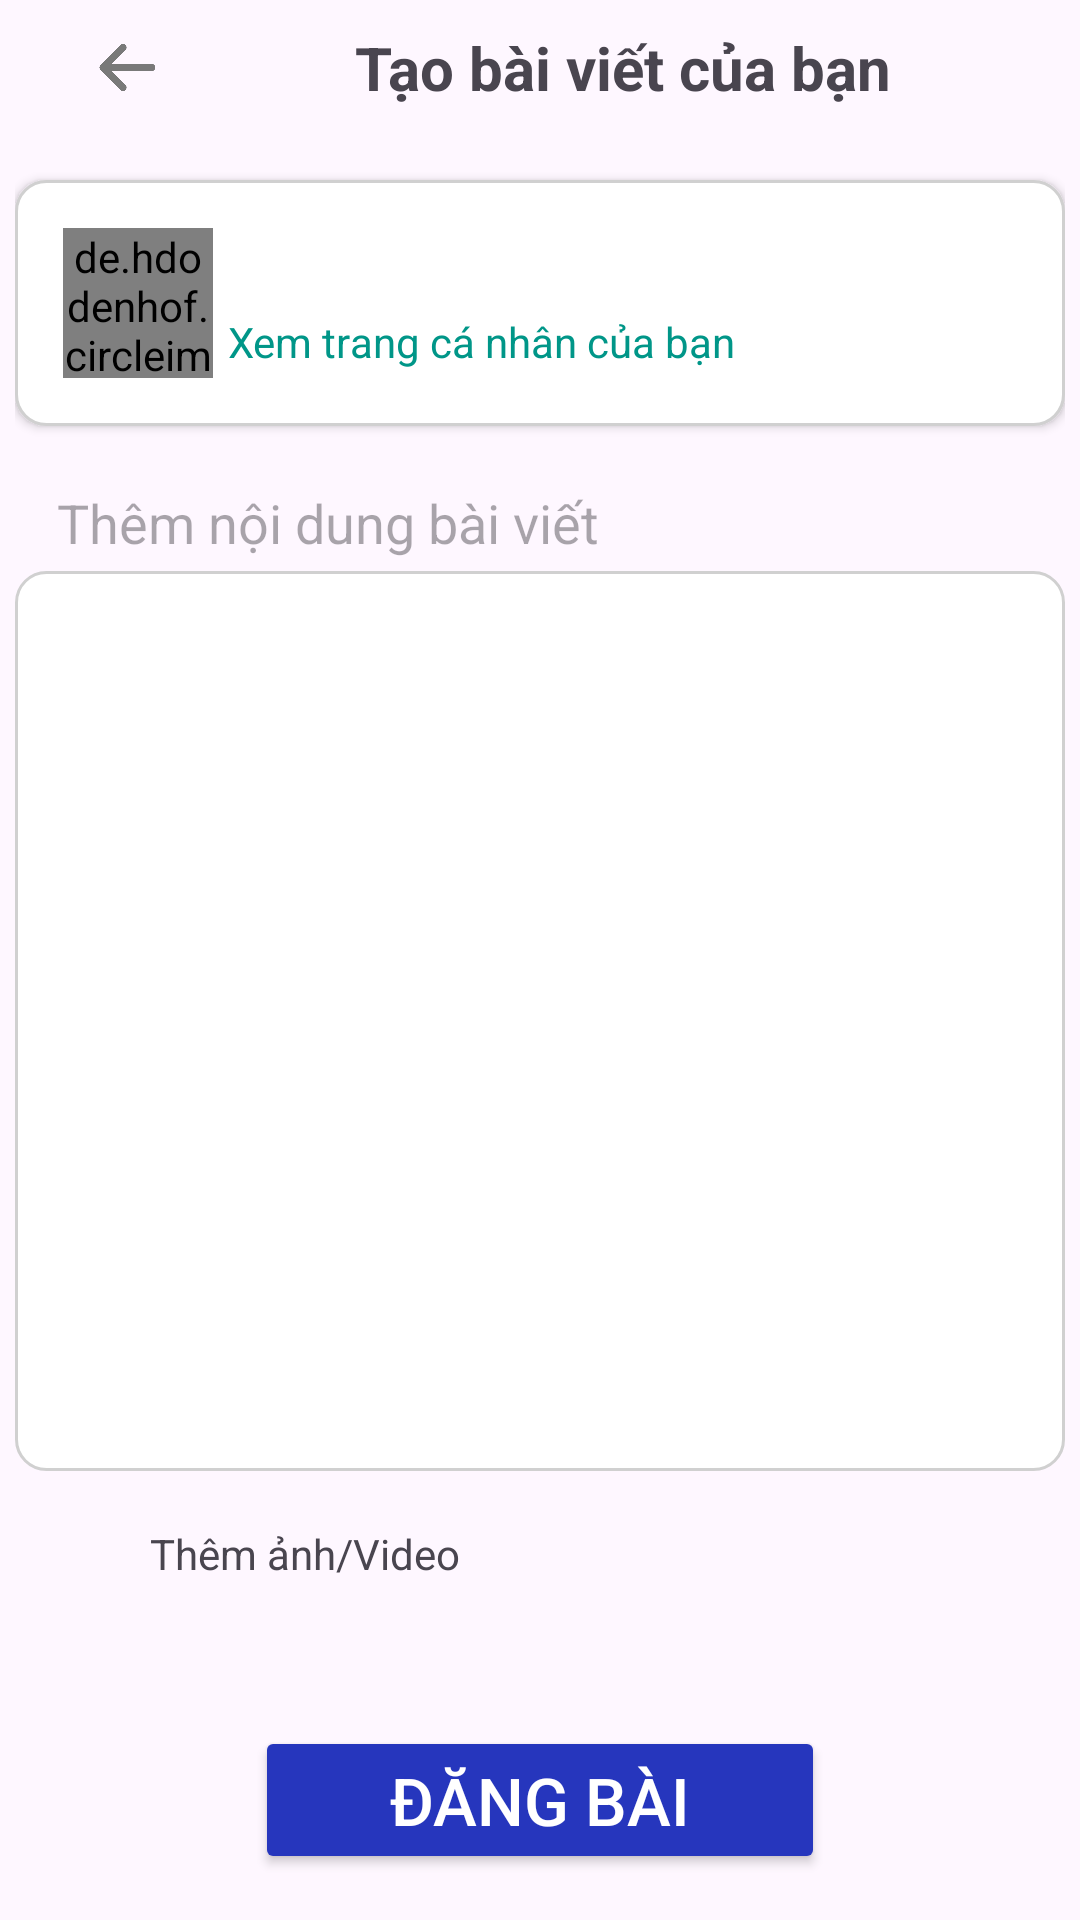

Named icons in this screenshot (1080 x 1920) and their bounding boxes, [x1, y1, x2, y2]:
back: [99, 44, 155, 91]
